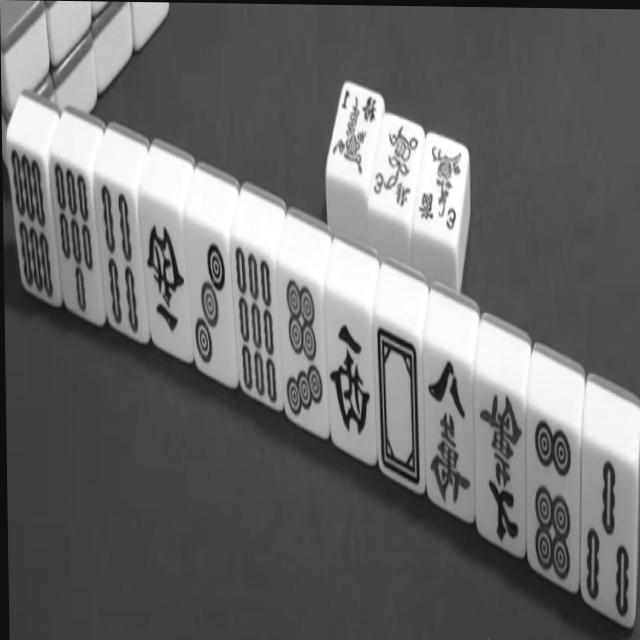bai: (373, 311, 426, 497)
f1: (324, 84, 382, 187)
f3: (410, 135, 468, 237)
f4: (325, 297, 373, 462)
ff3: (369, 117, 424, 217)
m7: (474, 372, 527, 559)
m8: (420, 346, 473, 514)
s3: (580, 446, 640, 626)
s4: (96, 179, 142, 341)
s6: (6, 150, 53, 305)
s7: (51, 162, 100, 305)
s9: (231, 239, 278, 411)
t3: (190, 224, 231, 375)
t6: (529, 417, 581, 577)
t7: (279, 262, 325, 428)
west: (145, 194, 185, 354)
